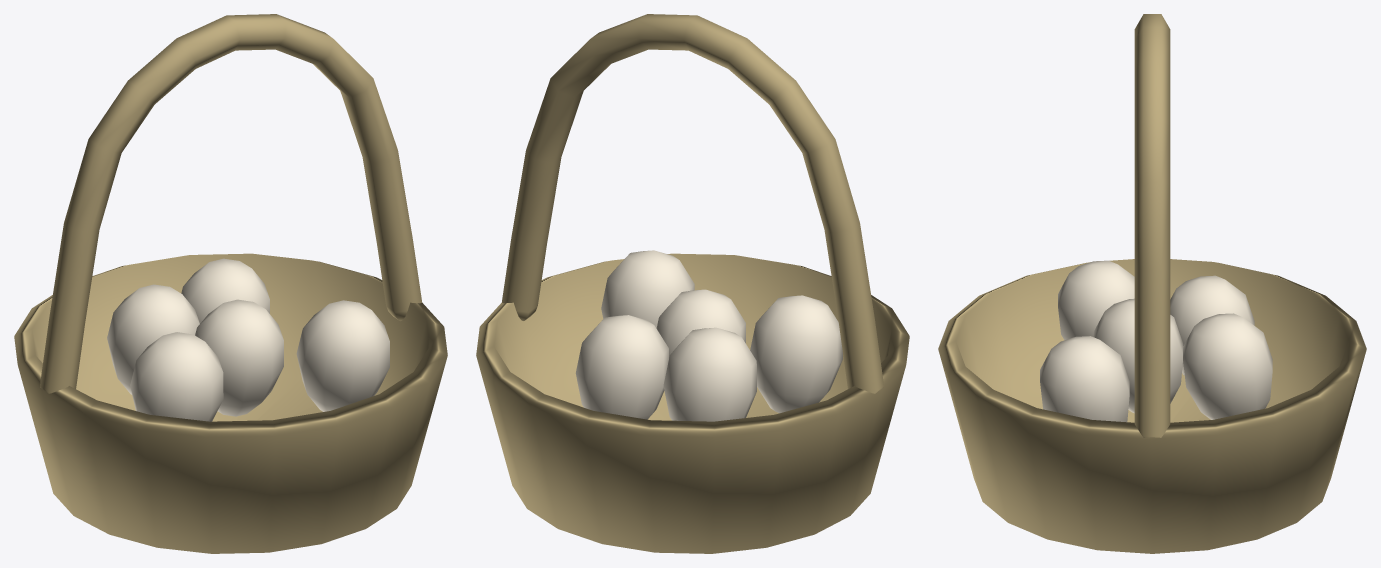
The model's file is kitchen_egg_basket.glb.
3 renders of one model, left to right at view 1: azimuth 30°, elevation 25°; view 2: azimuth 150°, elevation 25°; view 3: azimuth 270°, elevation 25°, orthographic.
Visible parts, largest first — view 1: kitchen_egg_basket_mesh; view 2: kitchen_egg_basket_mesh; view 3: kitchen_egg_basket_mesh.
Boxes of the visible parts, x1,y1,x2,y2 form: kitchen_egg_basket_mesh: (14,14,447,553); kitchen_egg_basket_mesh: (476,14,909,553); kitchen_egg_basket_mesh: (938,14,1366,553).
Bounding box in the file's own units: 0.24 × 0.2787 × 0.24.
